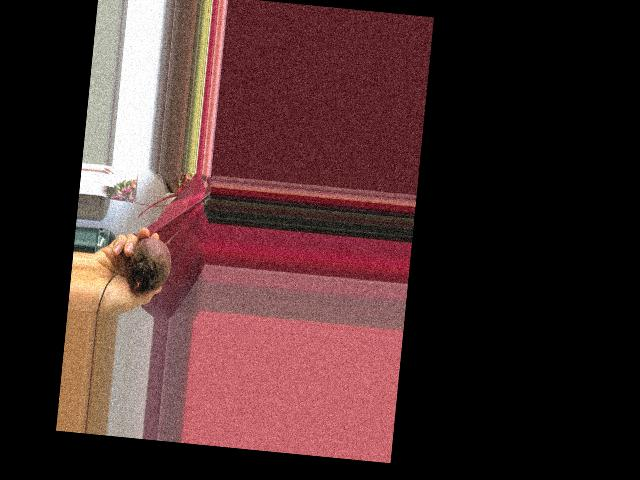beet: (96, 221, 181, 319)
